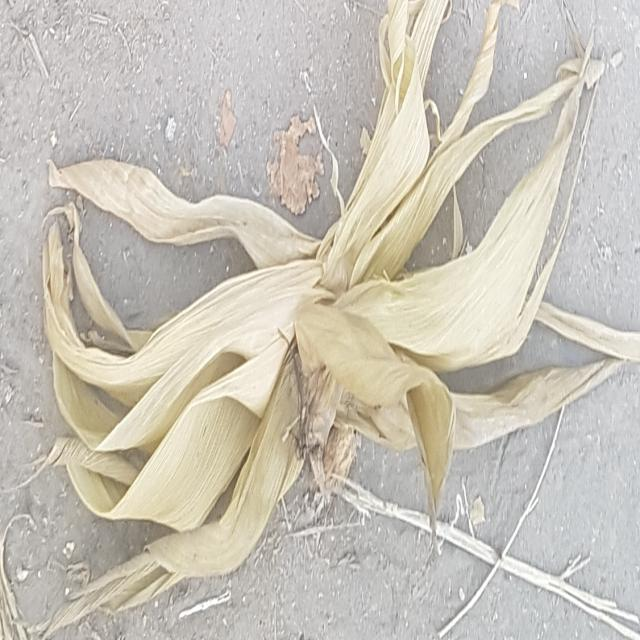paper: (53, 25, 615, 602)
